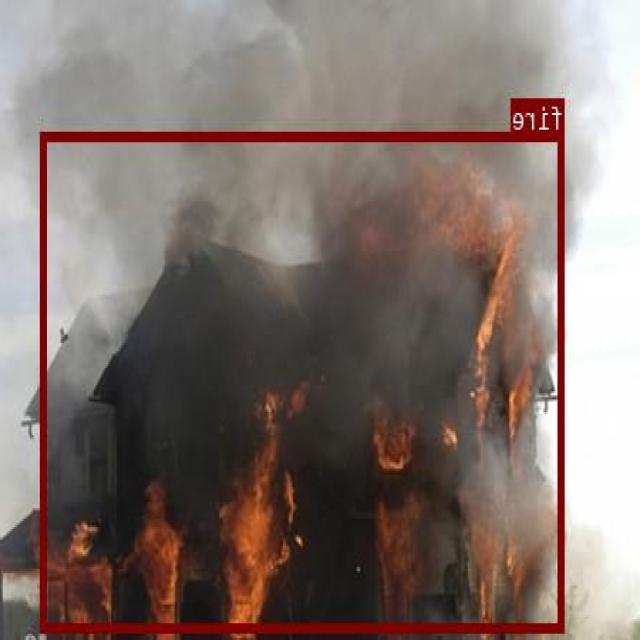fire: (42, 131, 566, 631)
